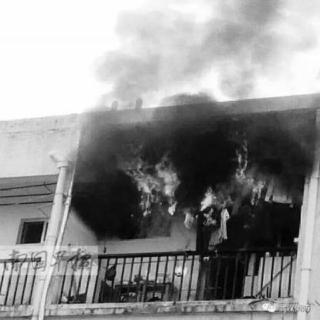Fire: (164, 257, 188, 277)
Smoke: (203, 4, 271, 60)
